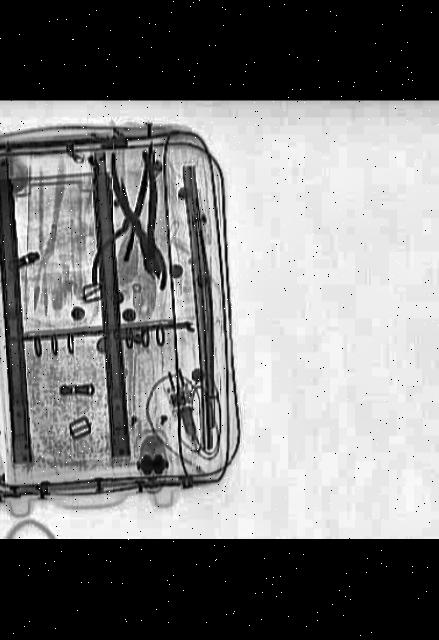Pliers: (108, 149, 179, 278), (91, 178, 172, 288)
